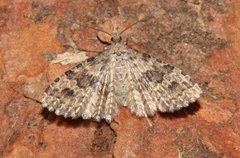Alucitidae: (38, 21, 204, 131)
moth: (36, 19, 202, 129)
